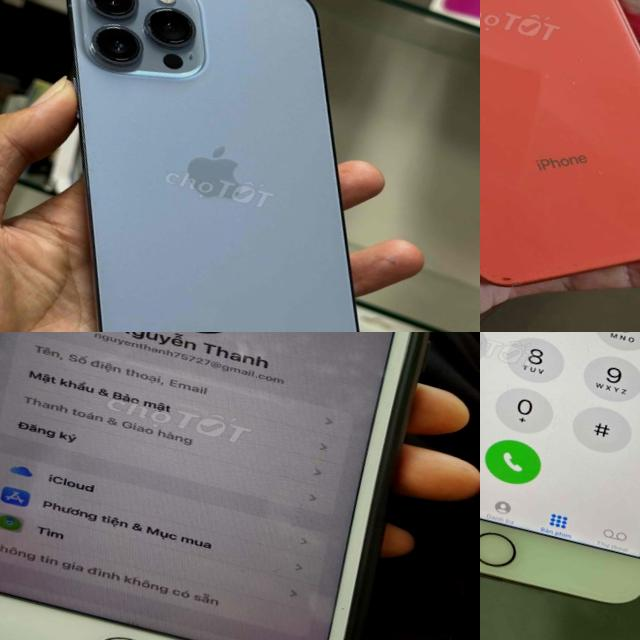gen_12_13: (0, 0, 457, 332)
gen_7_8: (0, 332, 480, 640), (480, 332, 640, 630)
gen_x_xs: (480, 0, 640, 332)
